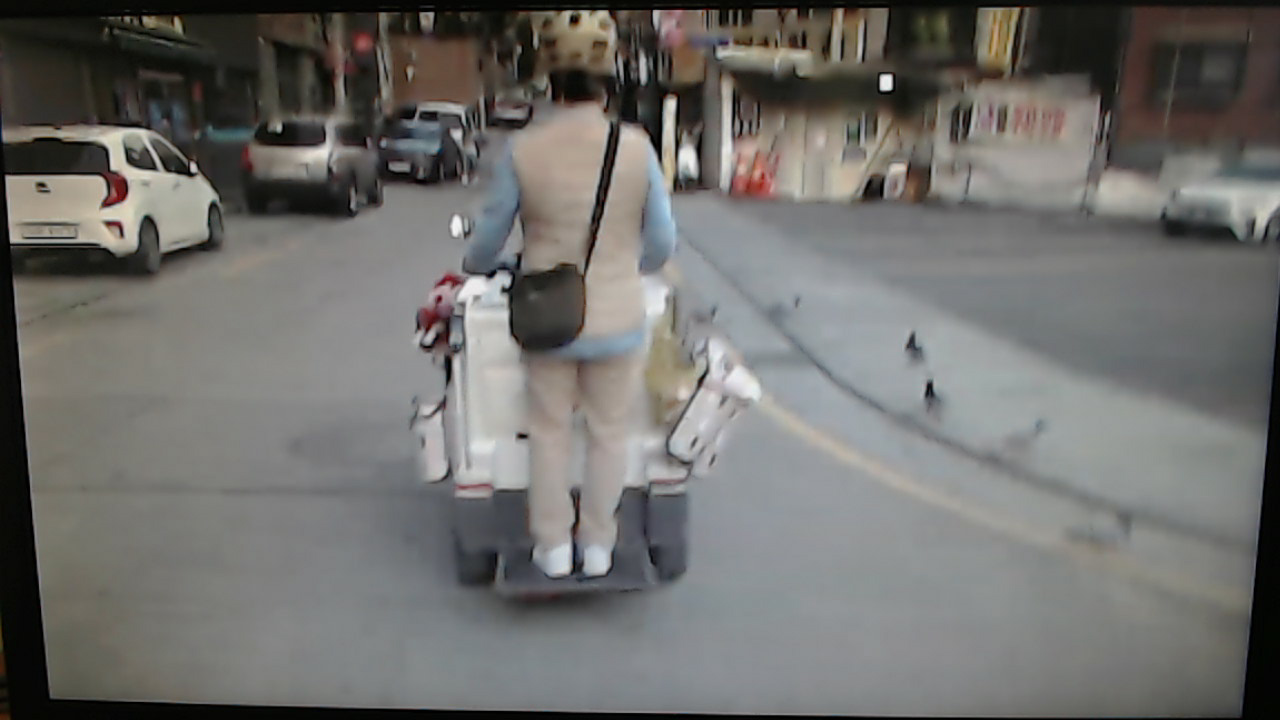Yakurut: (428, 12, 708, 606)
